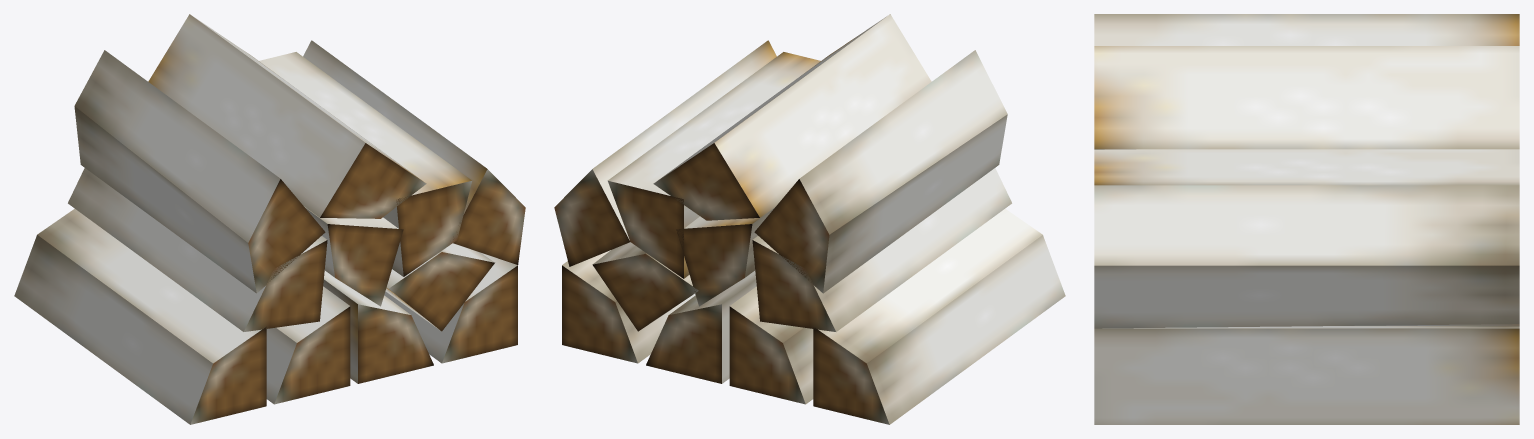
Rendered from Poly_Woods_02_Snow.obj.
3 renders of one model, left to right at view 1: azimuth 30°, elevation 25°; view 2: azimuth 150°, elevation 25°; view 3: azimuth 270°, elevation 25°, orthographic. The views are drawn at different scales.
Parts seen in each view (by area): view 1: Cube; view 2: Cube; view 3: Cube.
Part boxes in pixels (box(x1,y1,x2,y2)): Cube: box(14, 14, 525, 424); Cube: box(554, 14, 1065, 424); Cube: box(1094, 14, 1519, 424).
Size of the model in its own units: 0.6617 by 0.4511 by 0.6015.
1 material, 1 textured.
